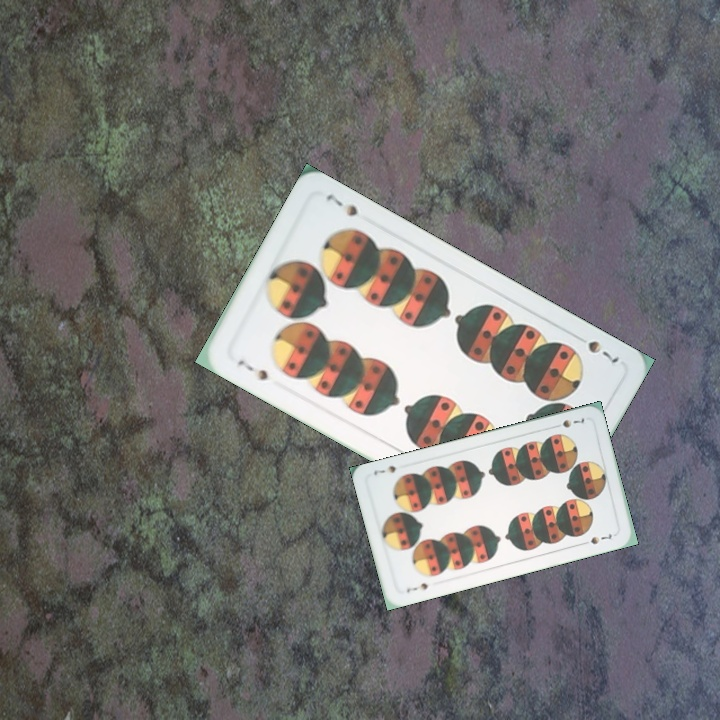S7: (583, 336, 623, 366), (233, 355, 271, 383), (549, 413, 589, 431), (402, 579, 430, 595)
